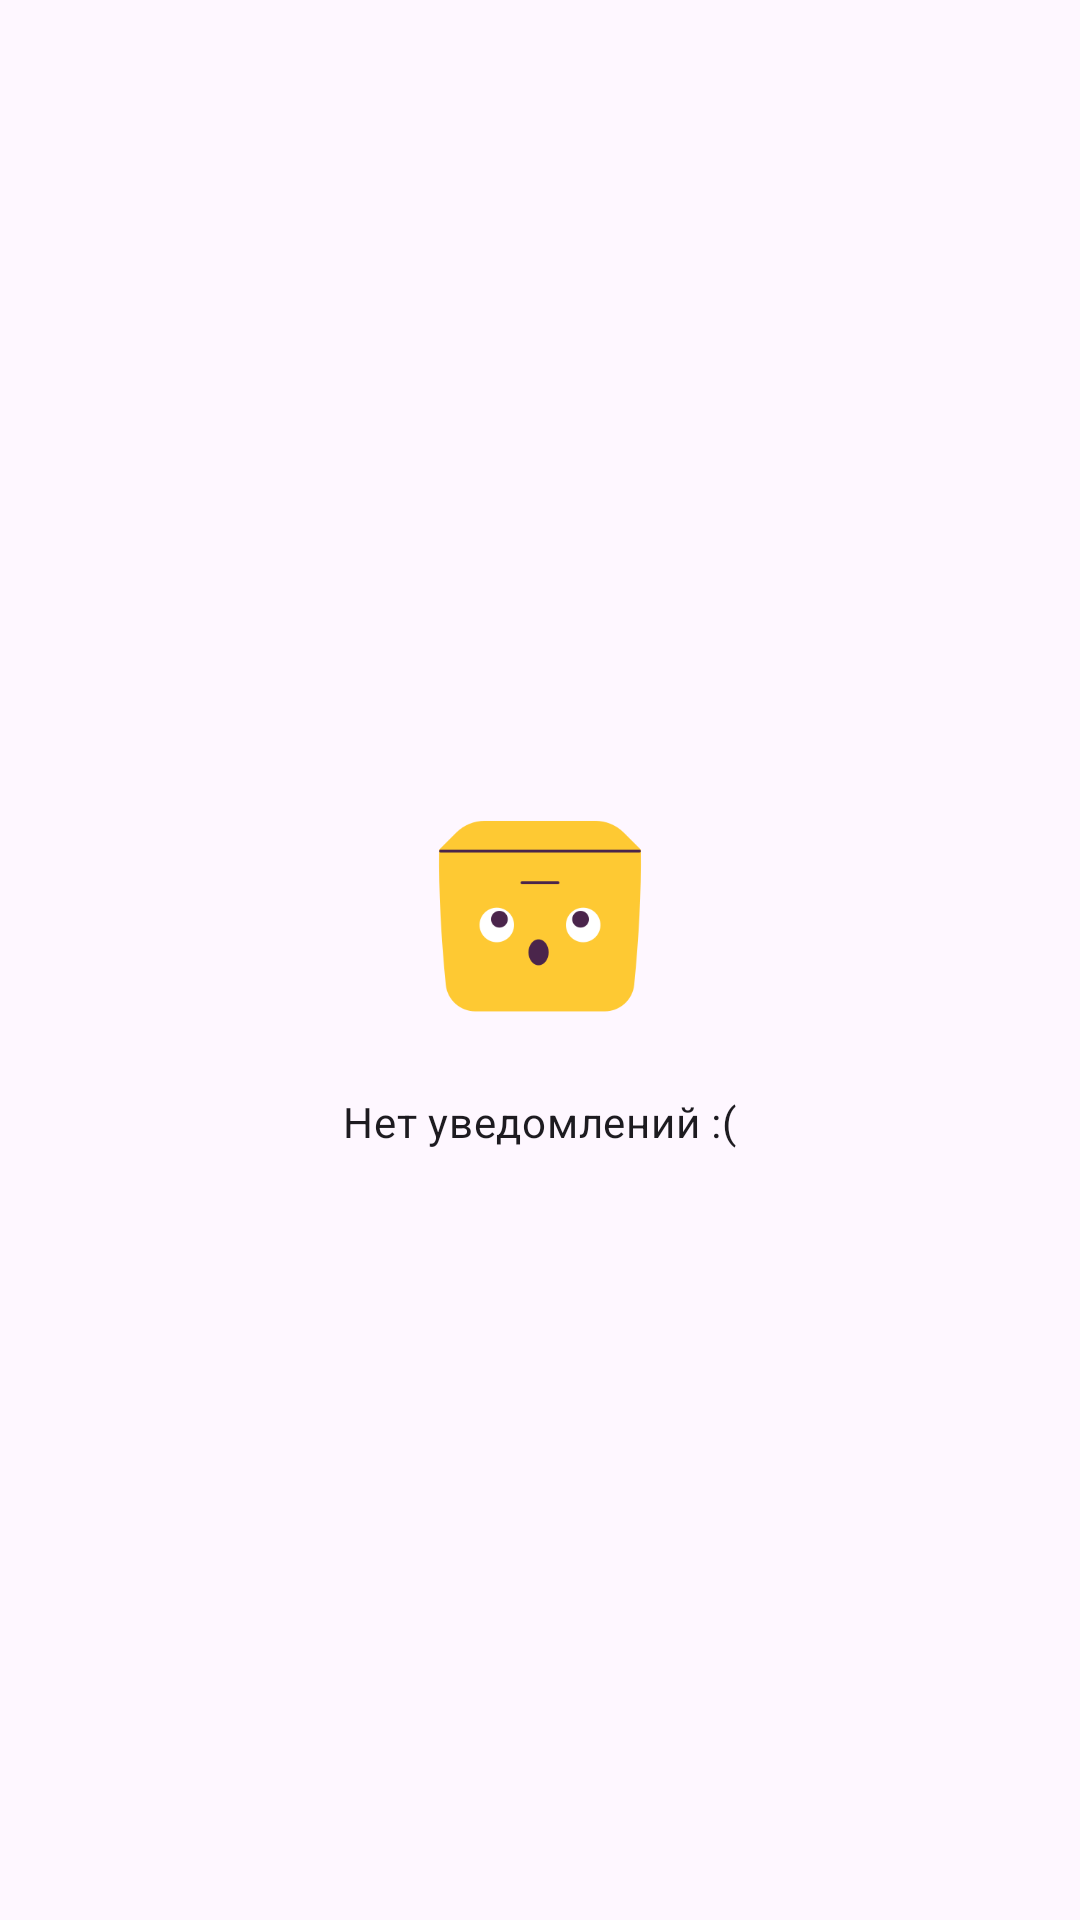

Locate icon controls on the screen. Image size 1080 × 1920, boxes as (x1, y1, x2, y2).
empty box state: (439, 821, 641, 1012)
